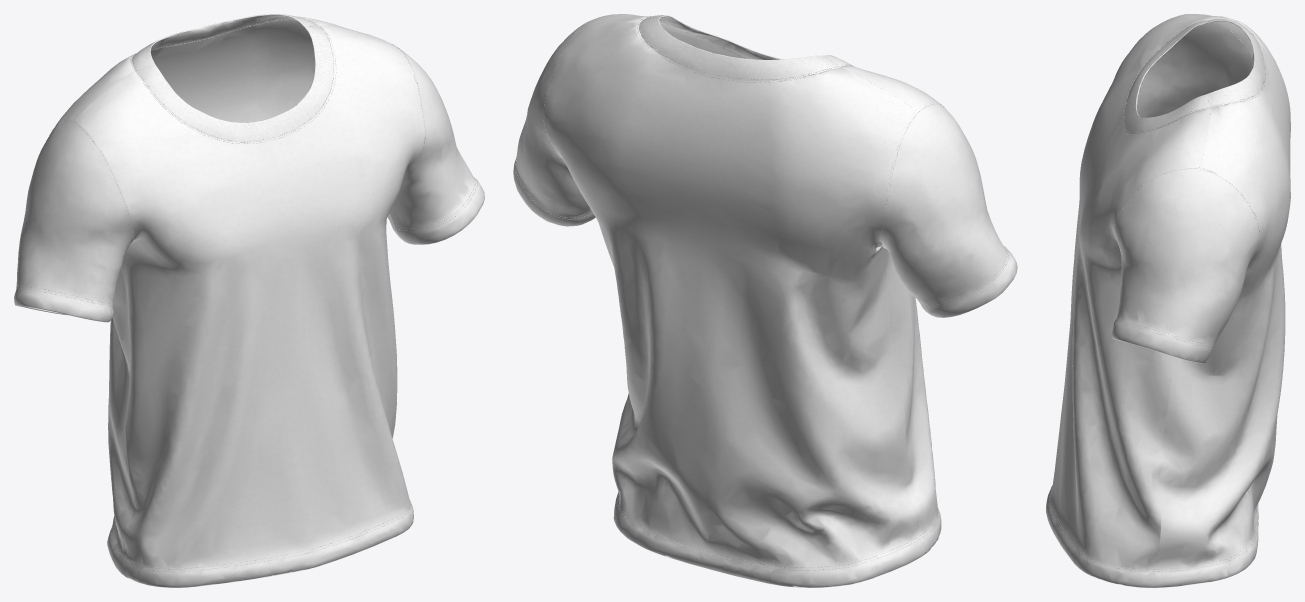
Rendered from tshirt.glb.
3 renders of one model, left to right at view 1: azimuth 30°, elevation 25°; view 2: azimuth 150°, elevation 25°; view 3: azimuth 270°, elevation 25°, orthographic. The views are drawn at different scales.
Visible parts, largest first — view 1: Object_2, Object_15, Object_5; view 2: Object_2, Object_15, Object_5; view 3: Object_2, Object_15, Object_5.
Boxes of the visible parts, <box> form: Object_2: <box>14,16,484,587</box>; Object_15: <box>131,14,334,142</box>; Object_5: <box>16,17,477,571</box>; Object_2: <box>513,14,1017,587</box>; Object_15: <box>638,15,851,81</box>; Object_5: <box>514,16,1008,570</box>; Object_2: <box>1046,14,1290,587</box>; Object_15: <box>1123,19,1264,134</box>; Object_5: <box>1049,19,1265,571</box>.
Bounding box in the file's own units: 637 × 647 × 300.
3 materials, 3 textured.
